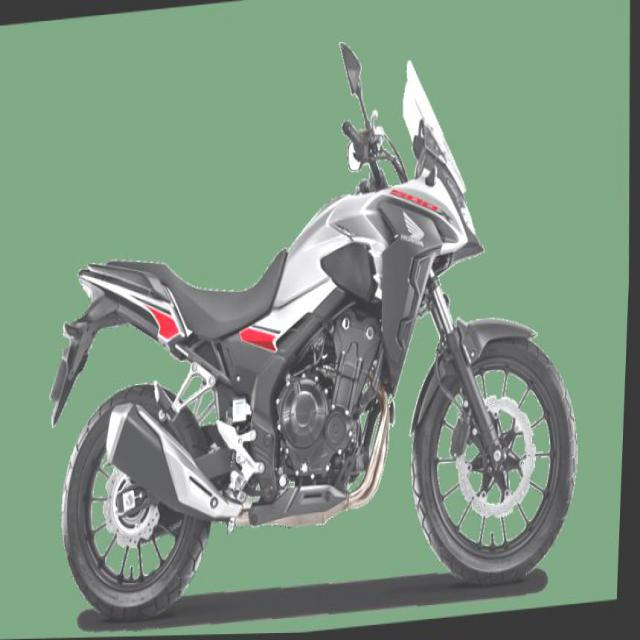CB500X: (43, 48, 598, 632)
